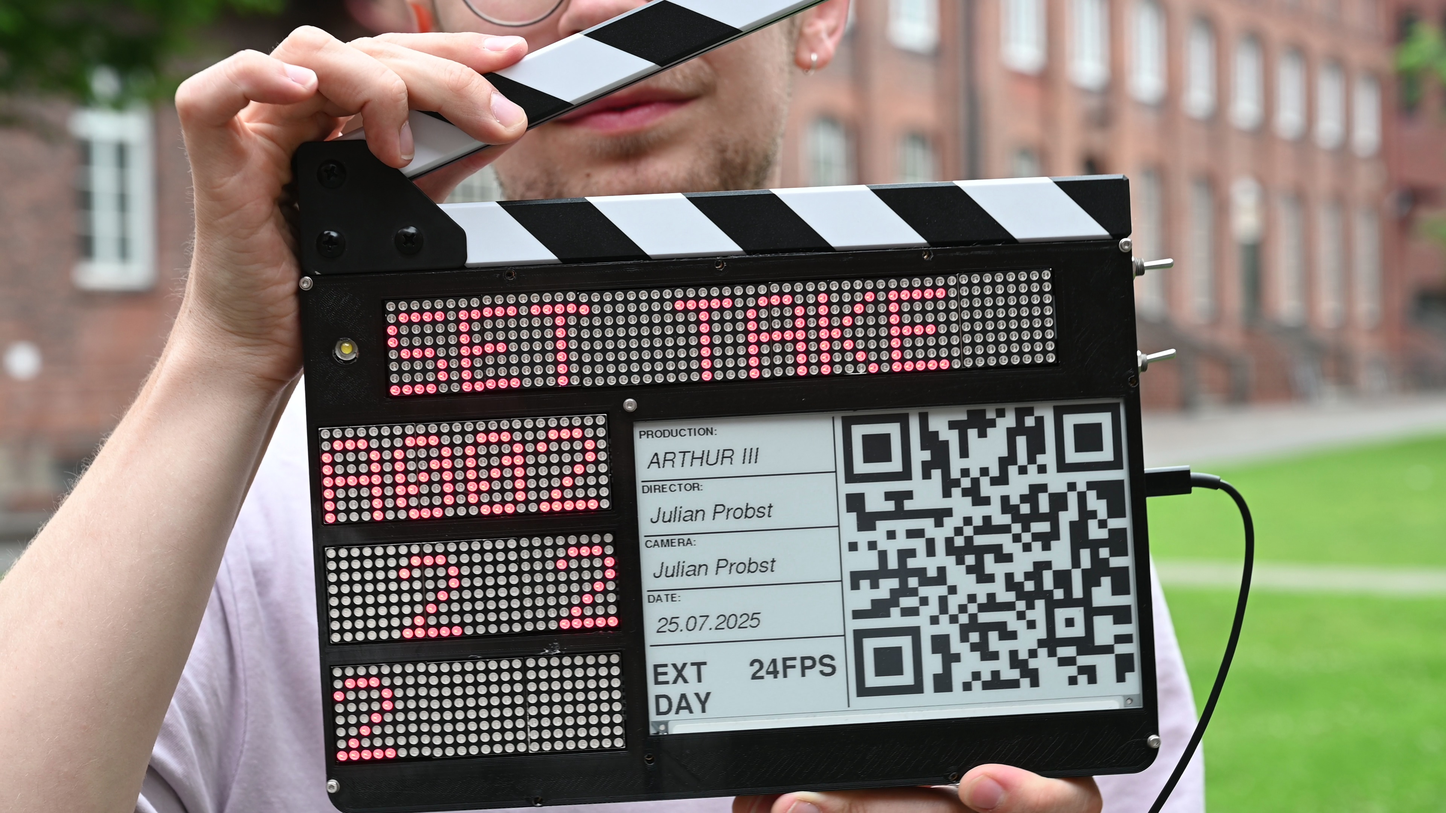ARC-SLATE: (298, 174, 1155, 812)
